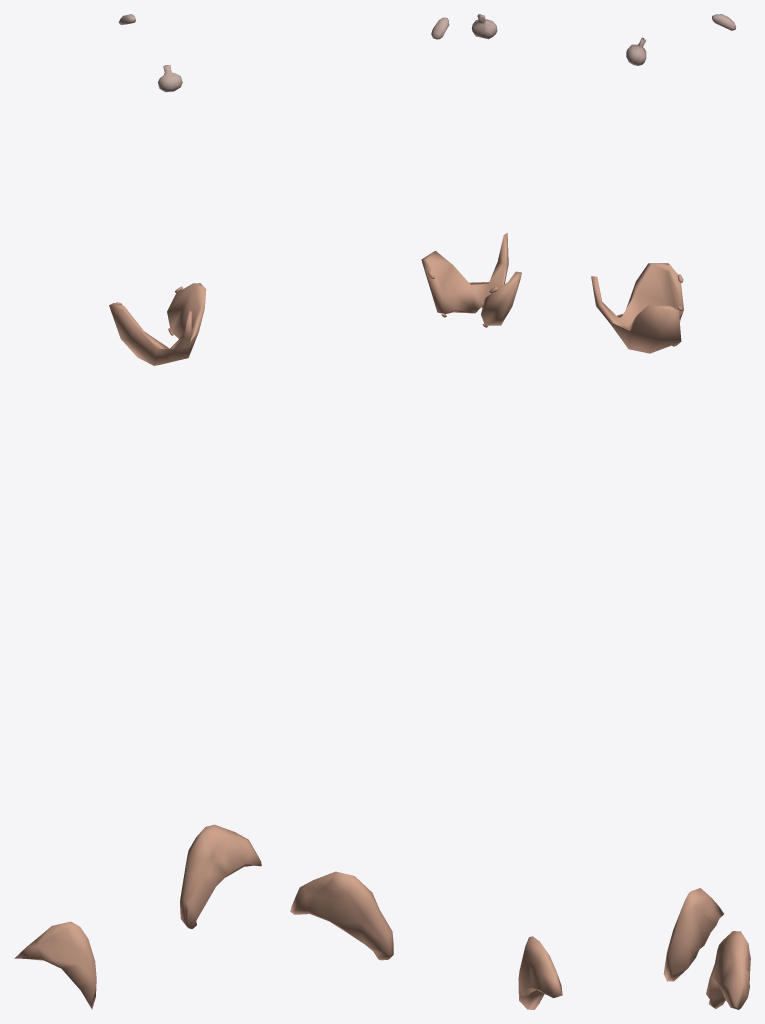
The model's file is adult_male.endocrine.LOD3.glb.
3 renders of one model, left to right at view 1: azimuth 30°, elevation 25°; view 2: azimuth 150°, elevation 25°; view 3: azimuth 270°, elevation 25°, orthographic. The views are drawn at different scales.
Visible parts, largest first — view 1: ADULT.MALE.ENDOCRINE.SUPRARENAL_GLAND.L, ADULT.MALE.ENDOCRINE.THYROID_GLAND, ADULT.MALE.ENDOCRINE.SUPRARENAL_GLAND.R; view 2: ADULT.MALE.ENDOCRINE.SUPRARENAL_GLAND.L, ADULT.MALE.ENDOCRINE.THYROID_GLAND, ADULT.MALE.ENDOCRINE.SUPRARENAL_GLAND.R; view 3: ADULT.MALE.ENDOCRINE.THYROID_GLAND, ADULT.MALE.ENDOCRINE.SUPRARENAL_GLAND.R, ADULT.MALE.ENDOCRINE.SUPRARENAL_GLAND.L.
Part boxes in pixels (bbox=[...]): ADULT.MALE.ENDOCRINE.SUPRARENAL_GLAND.L: bbox=[180, 824, 261, 928]; ADULT.MALE.ENDOCRINE.THYROID_GLAND: bbox=[109, 283, 206, 365]; ADULT.MALE.ENDOCRINE.SUPRARENAL_GLAND.R: bbox=[14, 921, 96, 1009]; ADULT.MALE.ENDOCRINE.SUPRARENAL_GLAND.L: bbox=[290, 871, 393, 960]; ADULT.MALE.ENDOCRINE.THYROID_GLAND: bbox=[421, 233, 521, 325]; ADULT.MALE.ENDOCRINE.SUPRARENAL_GLAND.R: bbox=[518, 936, 562, 1009]; ADULT.MALE.ENDOCRINE.THYROID_GLAND: bbox=[591, 263, 683, 353]; ADULT.MALE.ENDOCRINE.SUPRARENAL_GLAND.R: bbox=[663, 888, 723, 981]; ADULT.MALE.ENDOCRINE.SUPRARENAL_GLAND.L: bbox=[706, 931, 750, 1009].
Size of the model in its own units: 0.1385 by 0.4995 by 0.0725.
